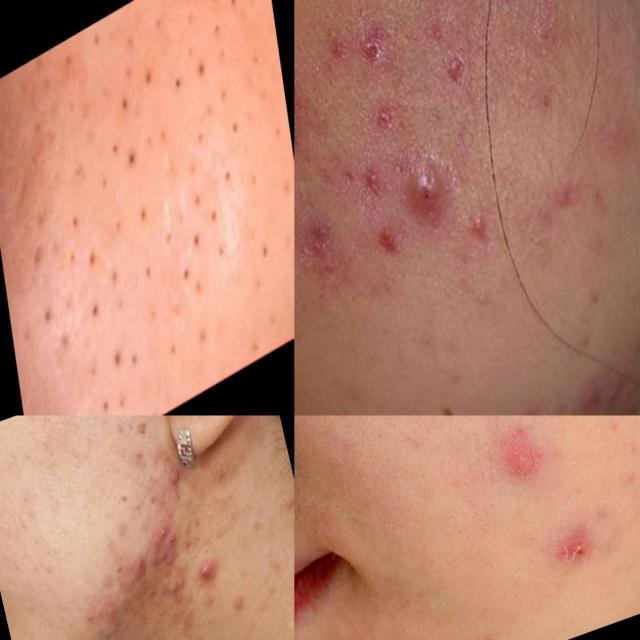8: (186, 553, 229, 600), (158, 581, 184, 612)
9: (492, 427, 548, 508), (460, 205, 494, 255)
blackheads: (542, 164, 590, 227), (137, 524, 182, 584), (159, 466, 180, 512)
dark spot: (177, 0, 255, 104), (162, 223, 232, 314), (176, 165, 228, 270), (57, 199, 103, 290), (209, 69, 248, 151), (104, 325, 146, 391), (161, 47, 192, 113), (78, 280, 111, 340), (154, 316, 186, 376), (109, 74, 137, 132), (134, 49, 162, 102), (119, 135, 145, 183), (130, 188, 154, 236), (255, 226, 278, 272), (136, 251, 160, 295), (106, 252, 126, 296)
pustules: (391, 136, 468, 250)
